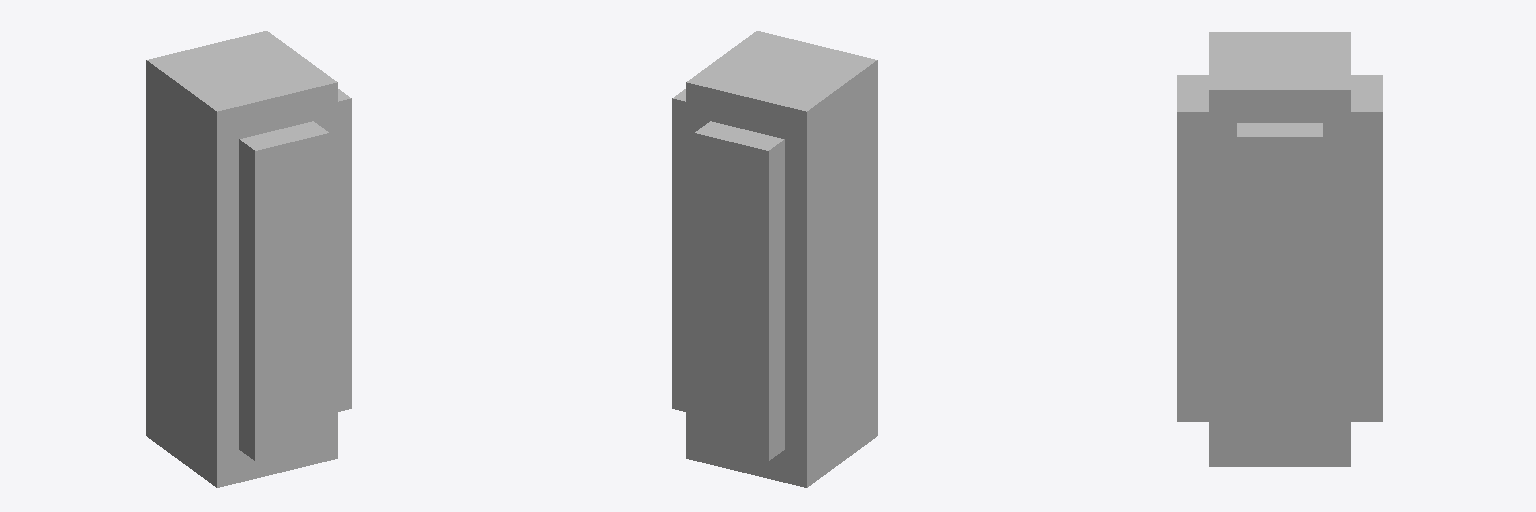
File: envirosuit_arm_left.obj
3 renders of one model, left to right at view 1: azimuth 30°, elevation 25°; view 2: azimuth 150°, elevation 25°; view 3: azimuth 270°, elevation 25°, orthographic.
Visible parts, largest first — view 1: Arm_Left_Cube; view 2: Arm_Left_Cube; view 3: Arm_Left_Cube.
Part boxes in pixels (bbox=[...]): Arm_Left_Cube: bbox=[146, 31, 351, 487]; Arm_Left_Cube: bbox=[672, 31, 877, 487]; Arm_Left_Cube: bbox=[1177, 32, 1382, 466].
Size of the model in its own units: 0.625 by 1.52 by 0.75.